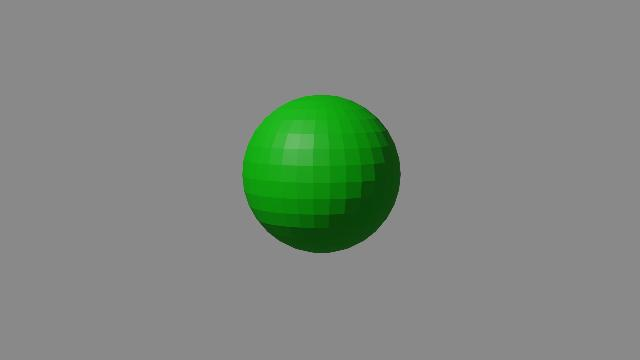Sphere: (233, 88, 403, 256)
